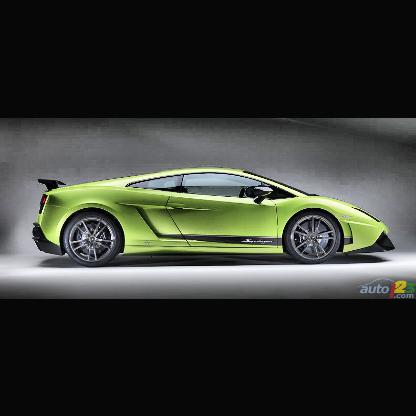Lamborghini Gallardo LP 570-4 Superleggera 2012: (33, 167, 397, 270)
